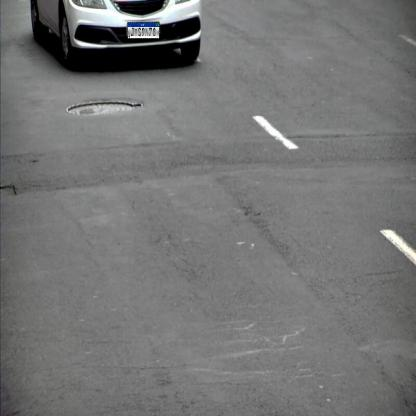PlacaM: (127, 22, 160, 39)
